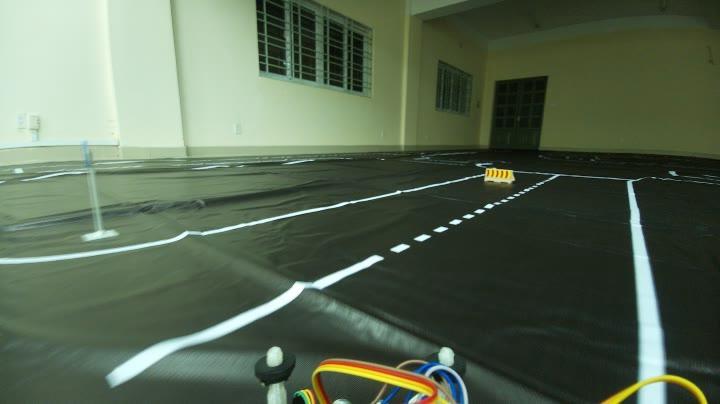onewayroad: (76, 137, 100, 166)
roadblock: (483, 163, 513, 183)
